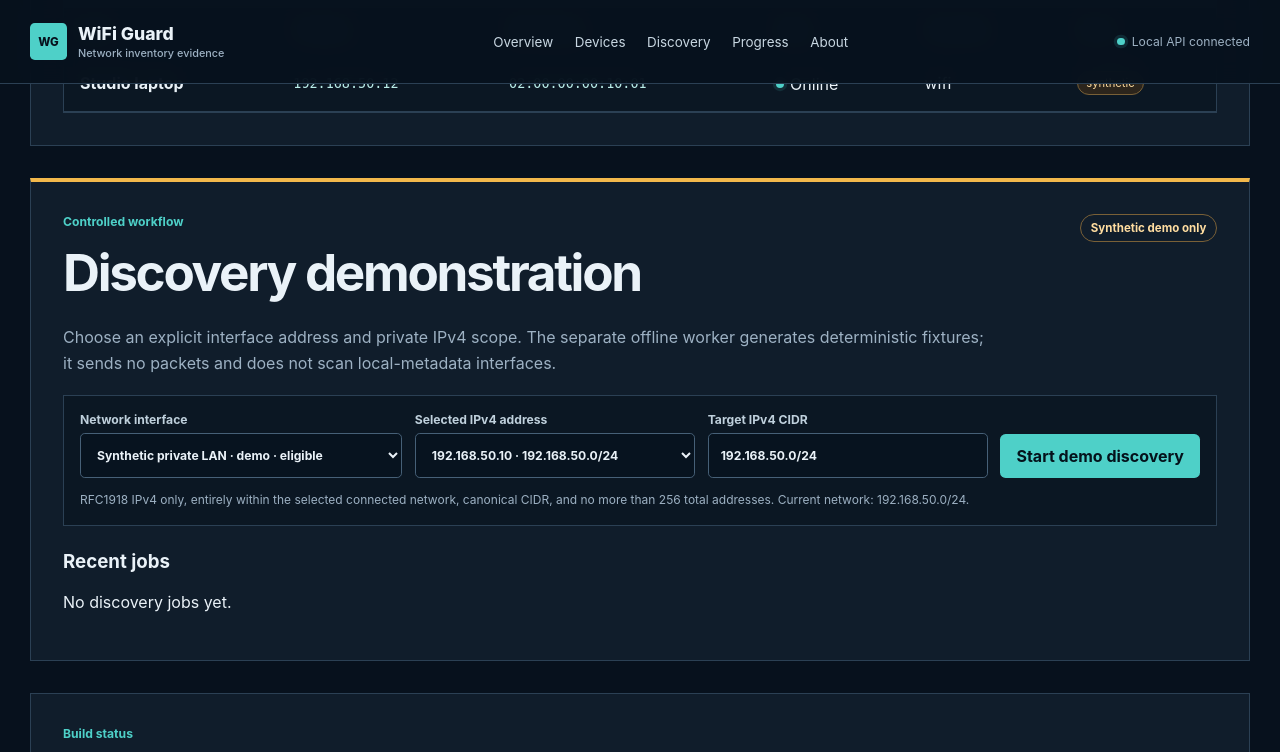
Test case: offline discovery › shows queued worker absence and supports cancellation
The image size is (1280, 752).
(page scrolled)
Step 1. Click the button "Start demo discovery" → point(1100, 456), box [1000,434,1200,478]
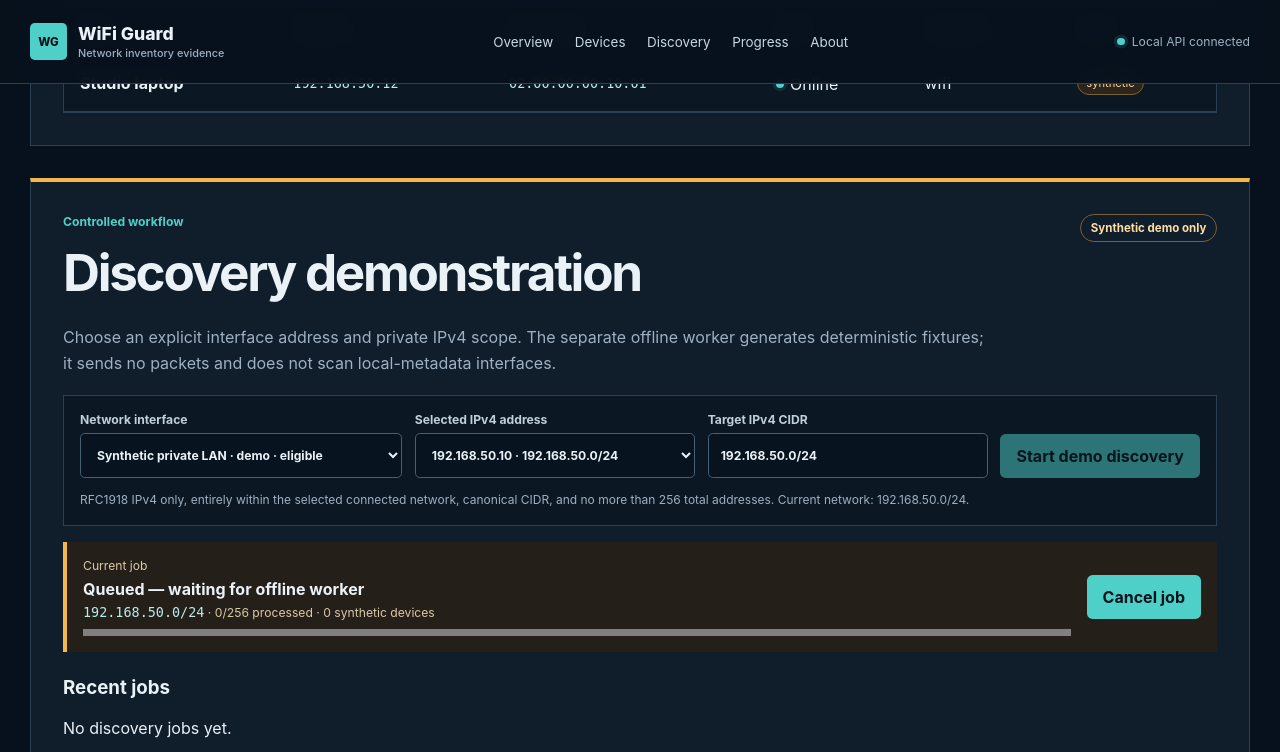
Check: the text "Queued — waiting for offline worker" is shown, box [83,579,364,599]
Step 2. Click the button "Cancel job" → point(1144, 597), box [1087,575,1201,619]
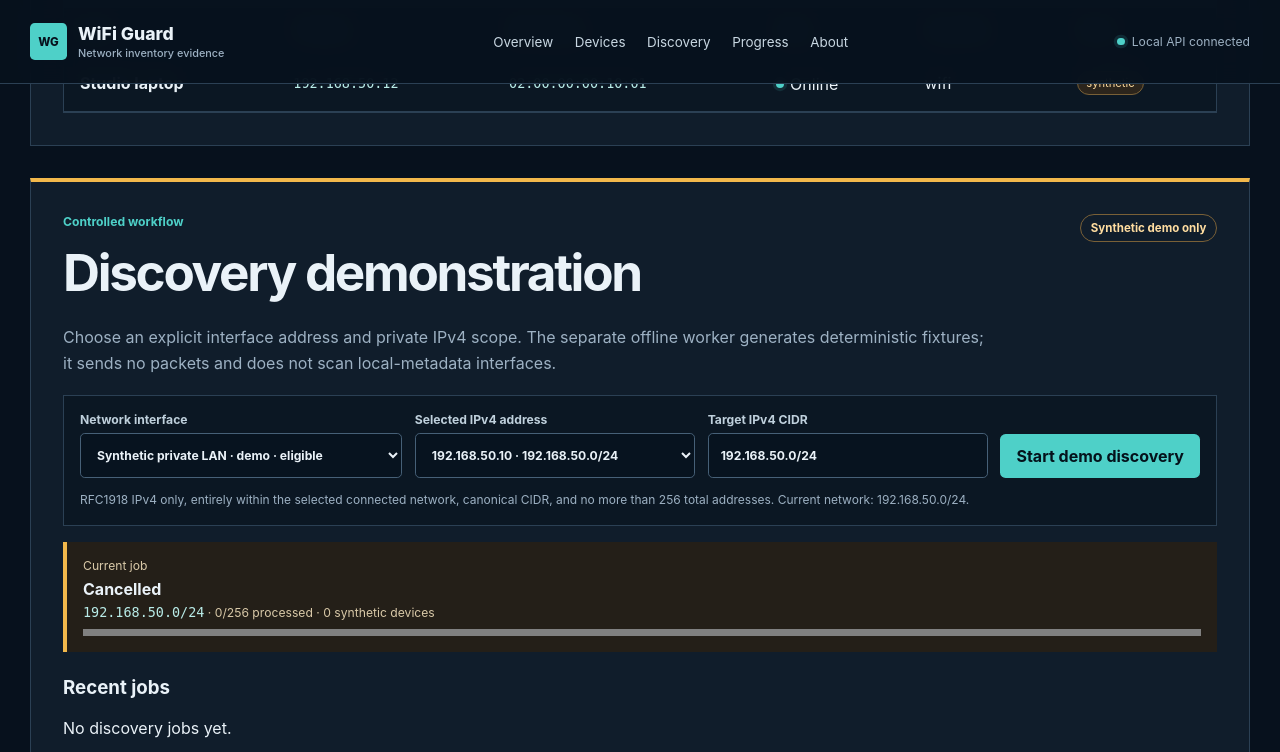
Check: the text "Cancelled" is shown, box [83,579,161,599]
